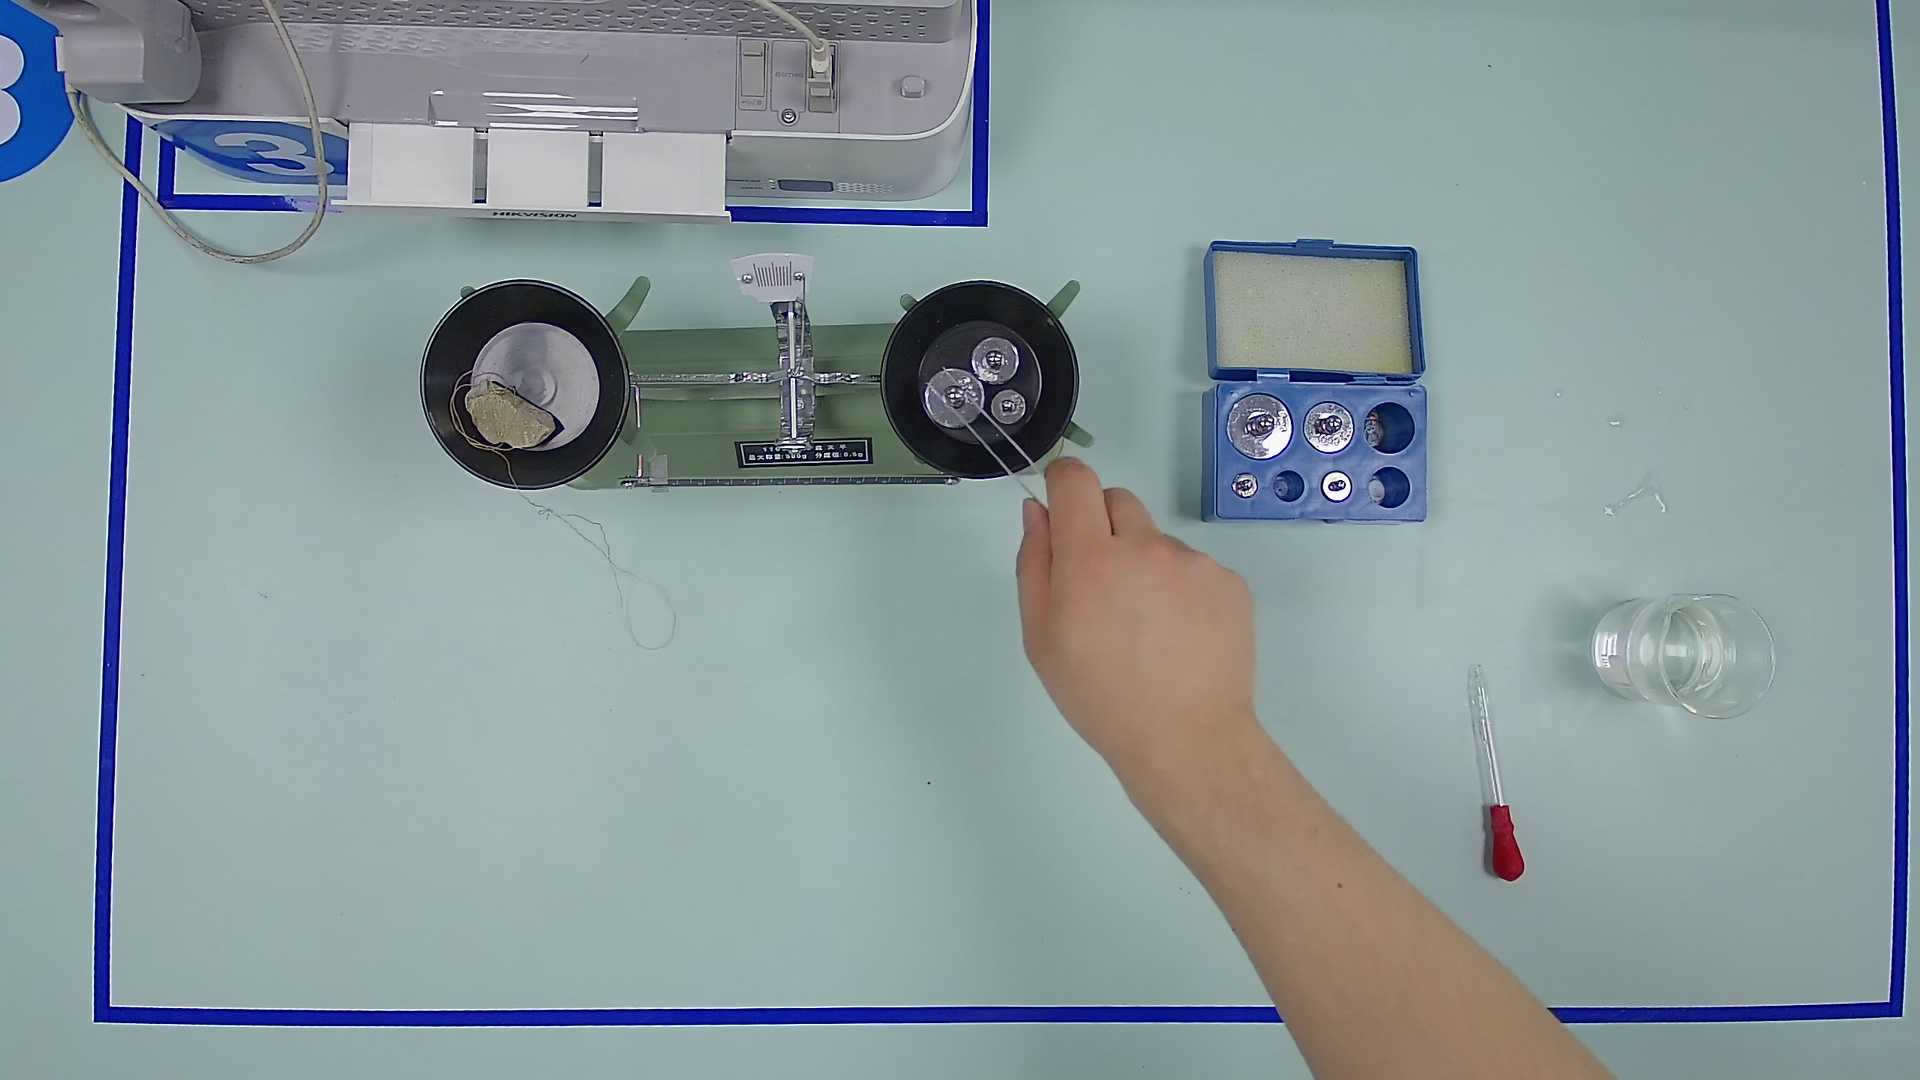bei: (1586, 574, 1779, 731)
diguan: (1441, 651, 1548, 899)
diguantou: (1474, 794, 1536, 890)
fama: (920, 363, 989, 433), (1225, 392, 1294, 462), (1302, 401, 1356, 456), (971, 335, 1022, 386), (986, 389, 1027, 425), (1319, 469, 1353, 502), (1230, 472, 1259, 498)
gan: (617, 447, 952, 516)
hand: (976, 439, 1278, 748)
he: (1183, 353, 1472, 545)
niezi: (949, 393, 1059, 521)
pointer: (735, 249, 814, 301)
shi: (460, 367, 558, 455)
tuo: (398, 261, 653, 514), (860, 262, 1109, 514)
you: (642, 452, 675, 498)
